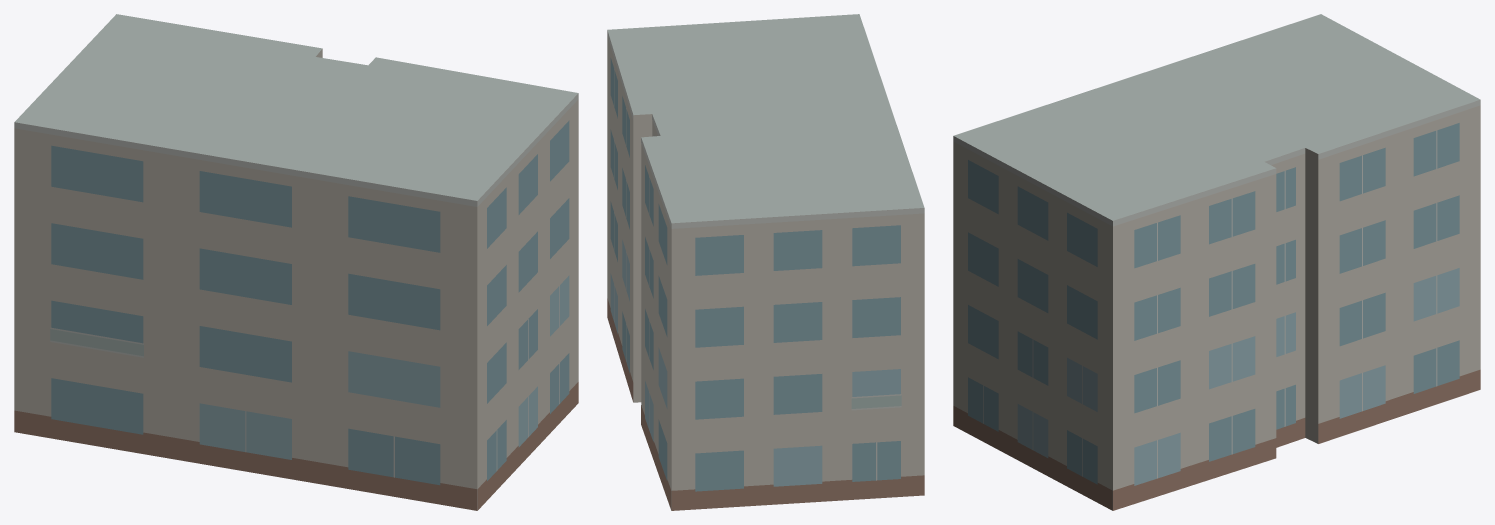
The model's file is survey-upis-32906482.glb.
3 views of the same model, side by side, from view 1: azimuth 30°, elevation 25°; view 2: azimuth 150°, elevation 25°; view 3: azimuth 270°, elevation 25° (orthographic). The views are drawn at different scales.
Parts seen in each view (by area): view 1: survey-upis-32906482.tmp; view 2: survey-upis-32906482.tmp; view 3: survey-upis-32906482.tmp.
Part boxes in pixels (bbox=[...]): survey-upis-32906482.tmp: bbox=[14, 14, 578, 510]; survey-upis-32906482.tmp: bbox=[607, 14, 924, 510]; survey-upis-32906482.tmp: bbox=[953, 14, 1480, 510].
Bounding box in the file's own units: 19.13 × 12.5 × 20.61.
